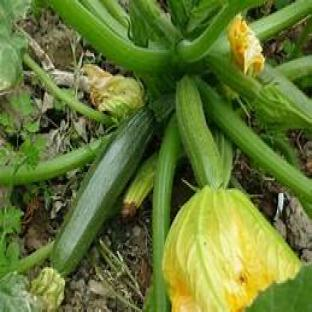Zucchini: (51, 110, 155, 275), (152, 116, 181, 311), (176, 76, 222, 188), (122, 153, 157, 218)
